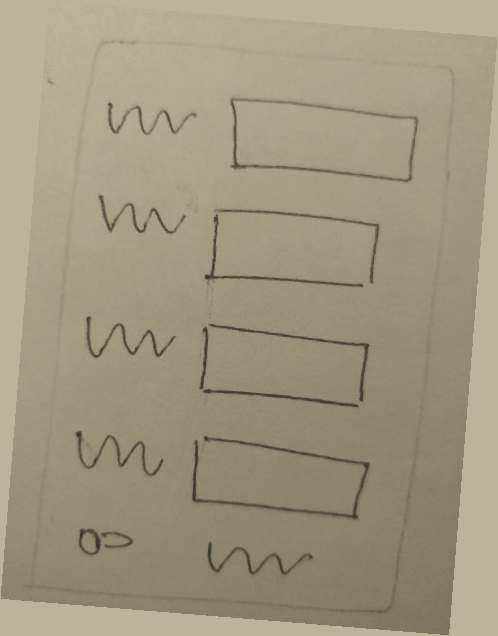switch: (55, 515, 148, 566)
text: (186, 532, 330, 596), (72, 302, 180, 376), (60, 420, 171, 488), (81, 184, 191, 252), (98, 89, 209, 152)
text_input: (213, 84, 431, 192), (188, 312, 385, 426), (177, 426, 378, 537), (200, 199, 390, 305)
